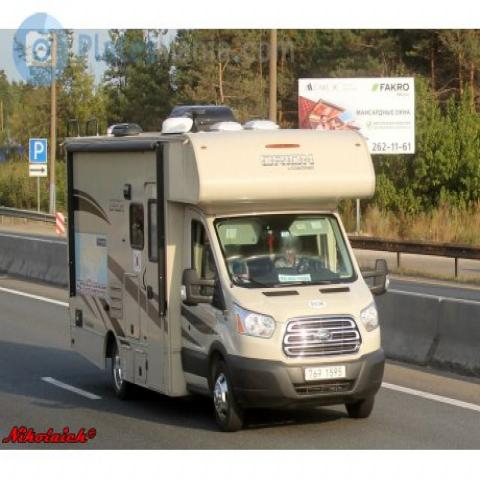LP: (301, 359, 348, 388)
